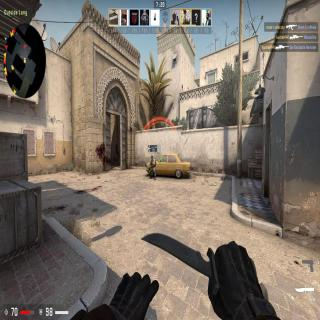CT-Body: (146, 153, 158, 181)
CT-Head: (148, 156, 154, 160)
